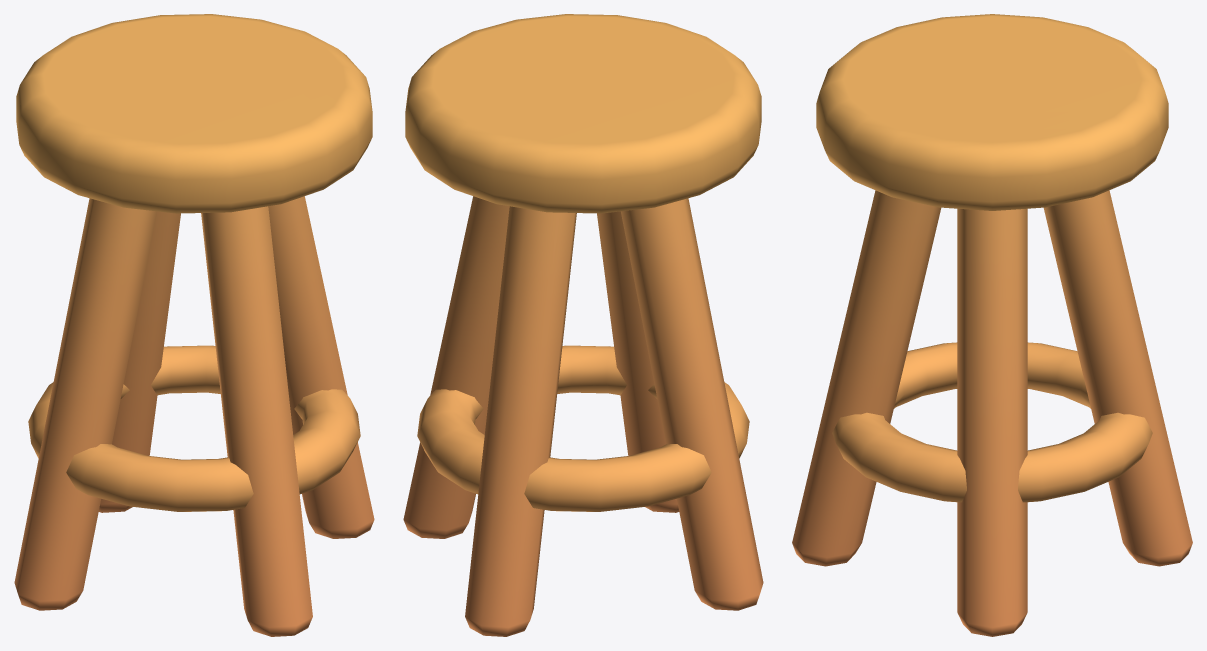
Rendered from Chair_17.fbx.
3 views of the same model, side by side, from view 1: azimuth 30°, elevation 25°; view 2: azimuth 150°, elevation 25°; view 3: azimuth 270°, elevation 25° (orthographic).
Visible parts, largest first — view 1: Chair_17; view 2: Chair_17; view 3: Chair_17.
Part boxes in pixels (x1,y1,x2,y2): Chair_17: (14, 14, 374, 636); Chair_17: (403, 14, 763, 636); Chair_17: (792, 14, 1192, 636).
Size of the model in its own units: 0.4549 by 0.6 by 0.4549.
